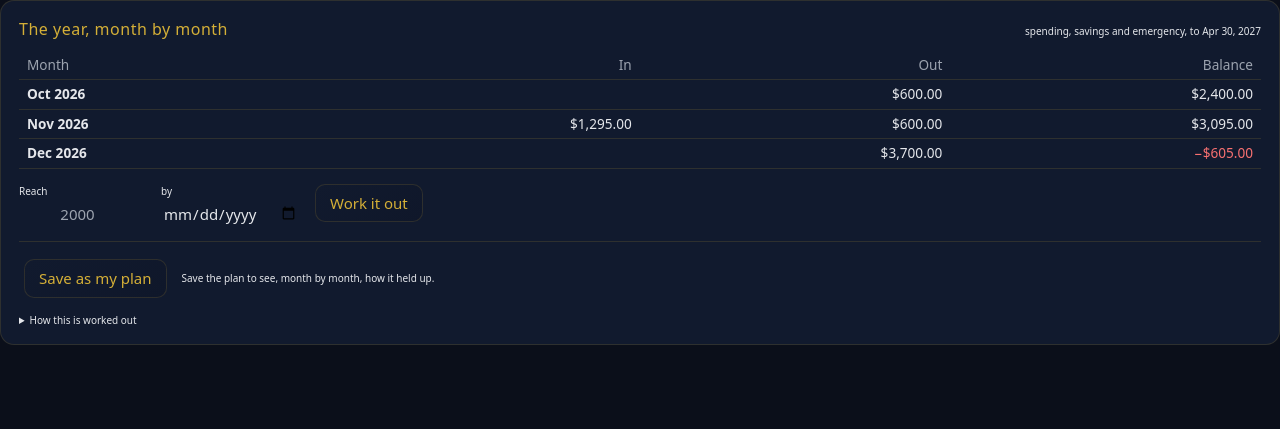
Test: YearPlan › passes a chosen date along
The image size is (1280, 429).
Expected: the text "$3,095.00" is shown, [950, 109, 1261, 139]
In the date field named "Reach it by": {"x": 230, "y": 214} [163, 203, 298, 225], type "2026-12-31"
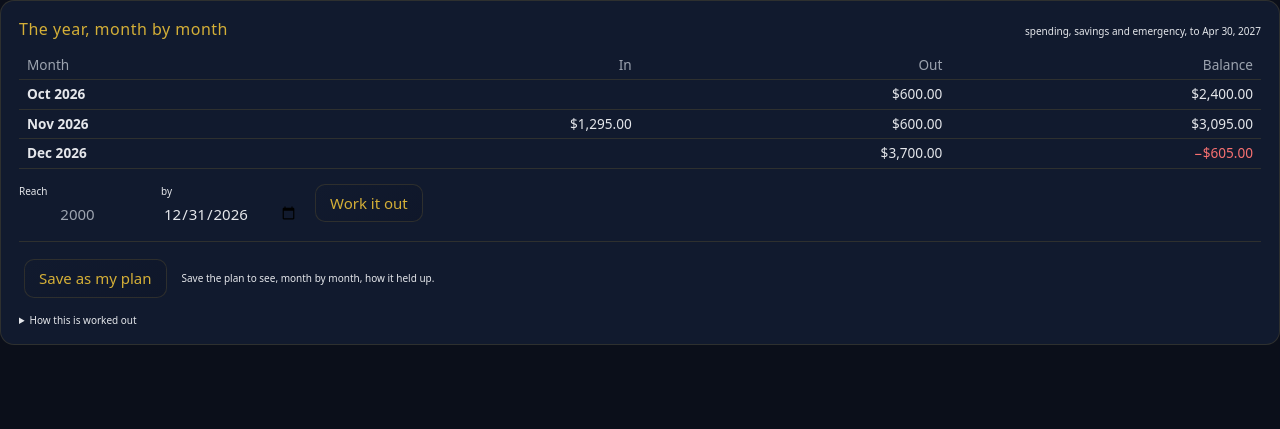
In the number field named "Balance to reach": {"x": 85, "y": 214} [21, 203, 149, 225], type "3000"
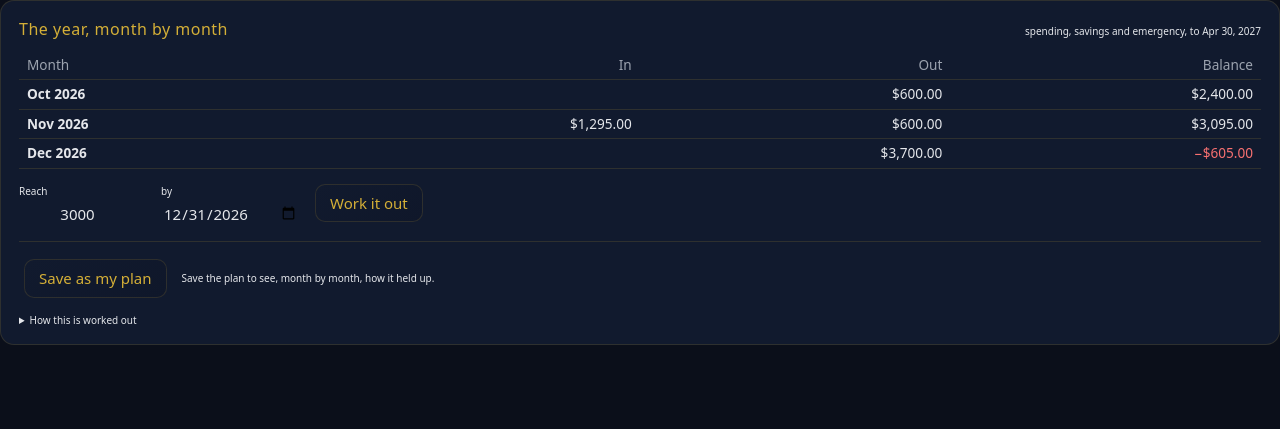
Click the button "Work it out": {"x": 369, "y": 203} [315, 184, 423, 222]
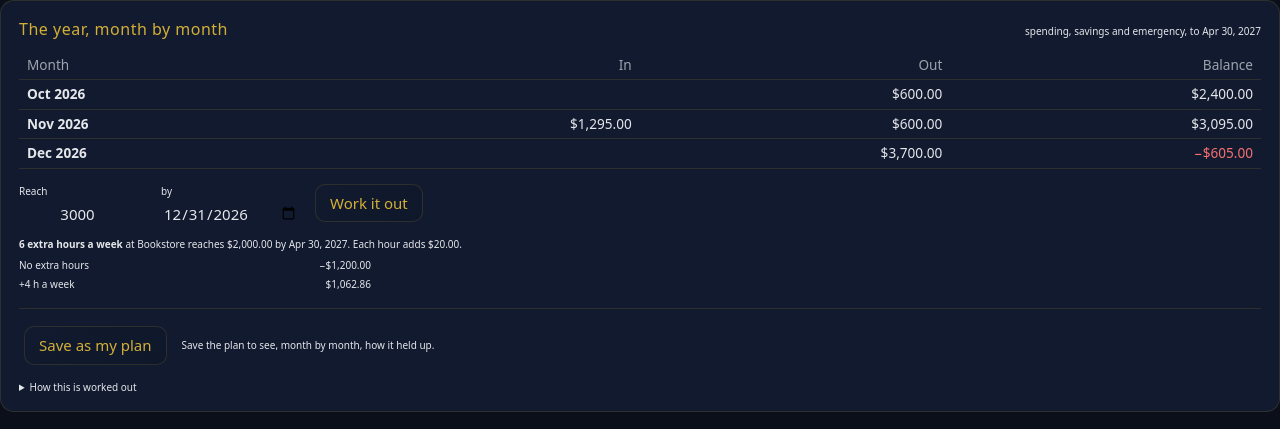
Expected: the text "6 extra hours a week" is shown, [19, 237, 123, 251]
